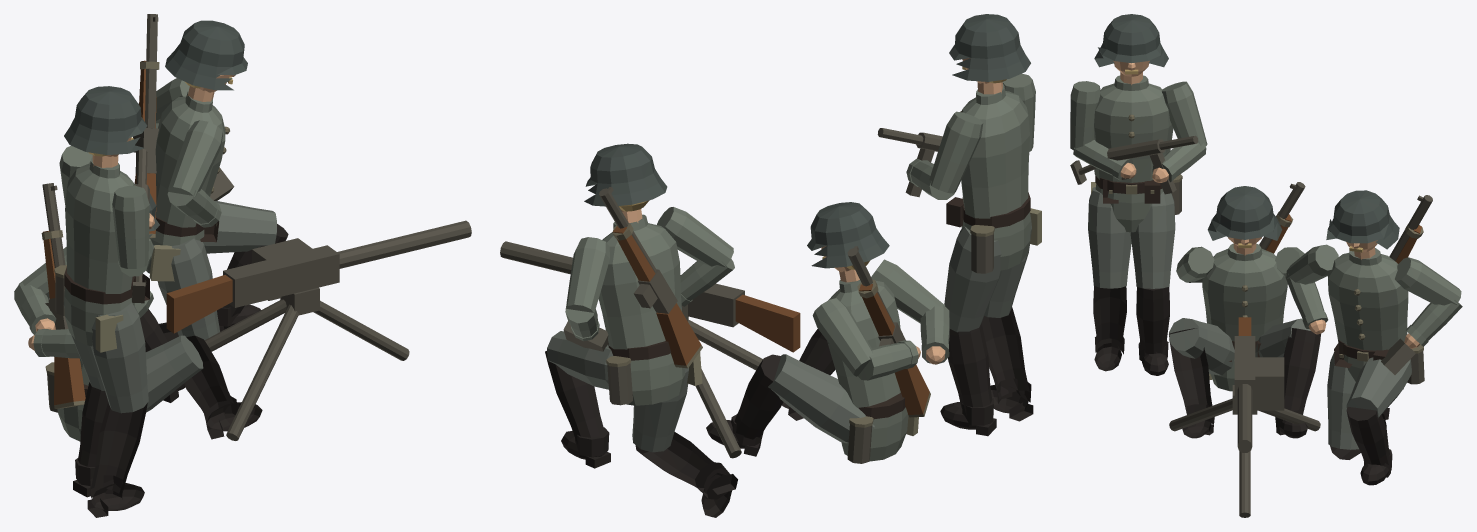
File: de_machine_gun_team.obj
3 renders of one model, left to right at view 1: azimuth 30°, elevation 25°; view 2: azimuth 150°, elevation 25°; view 3: azimuth 270°, elevation 25°, orthographic. The views are drawn at different scales.
Size of the model in its own units: 2.22 by 2 by 1.89.
